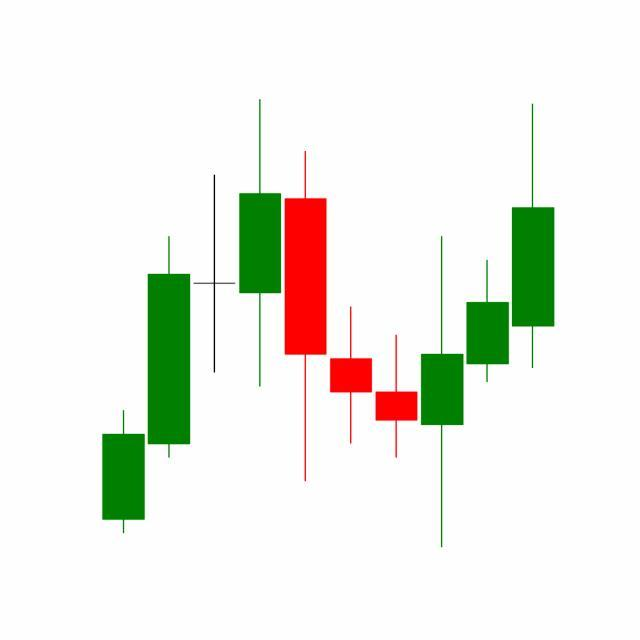Hikkake Pattern: (283, 147, 512, 549)
